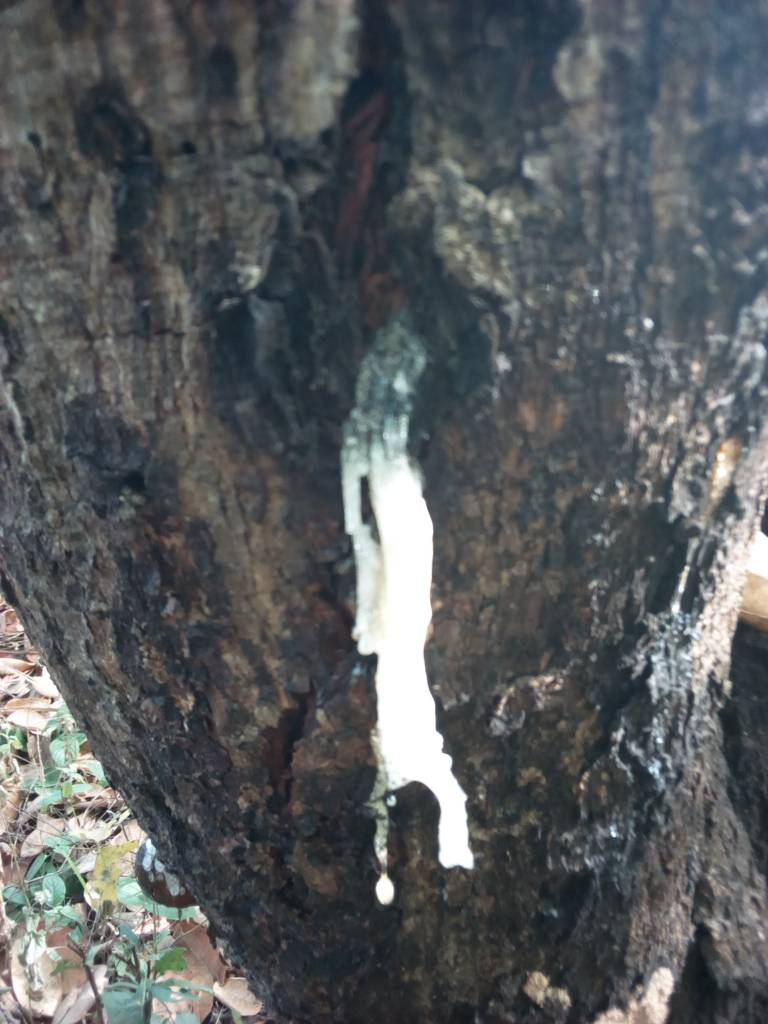Mecocorynus longiceps: (282, 308, 550, 913)
